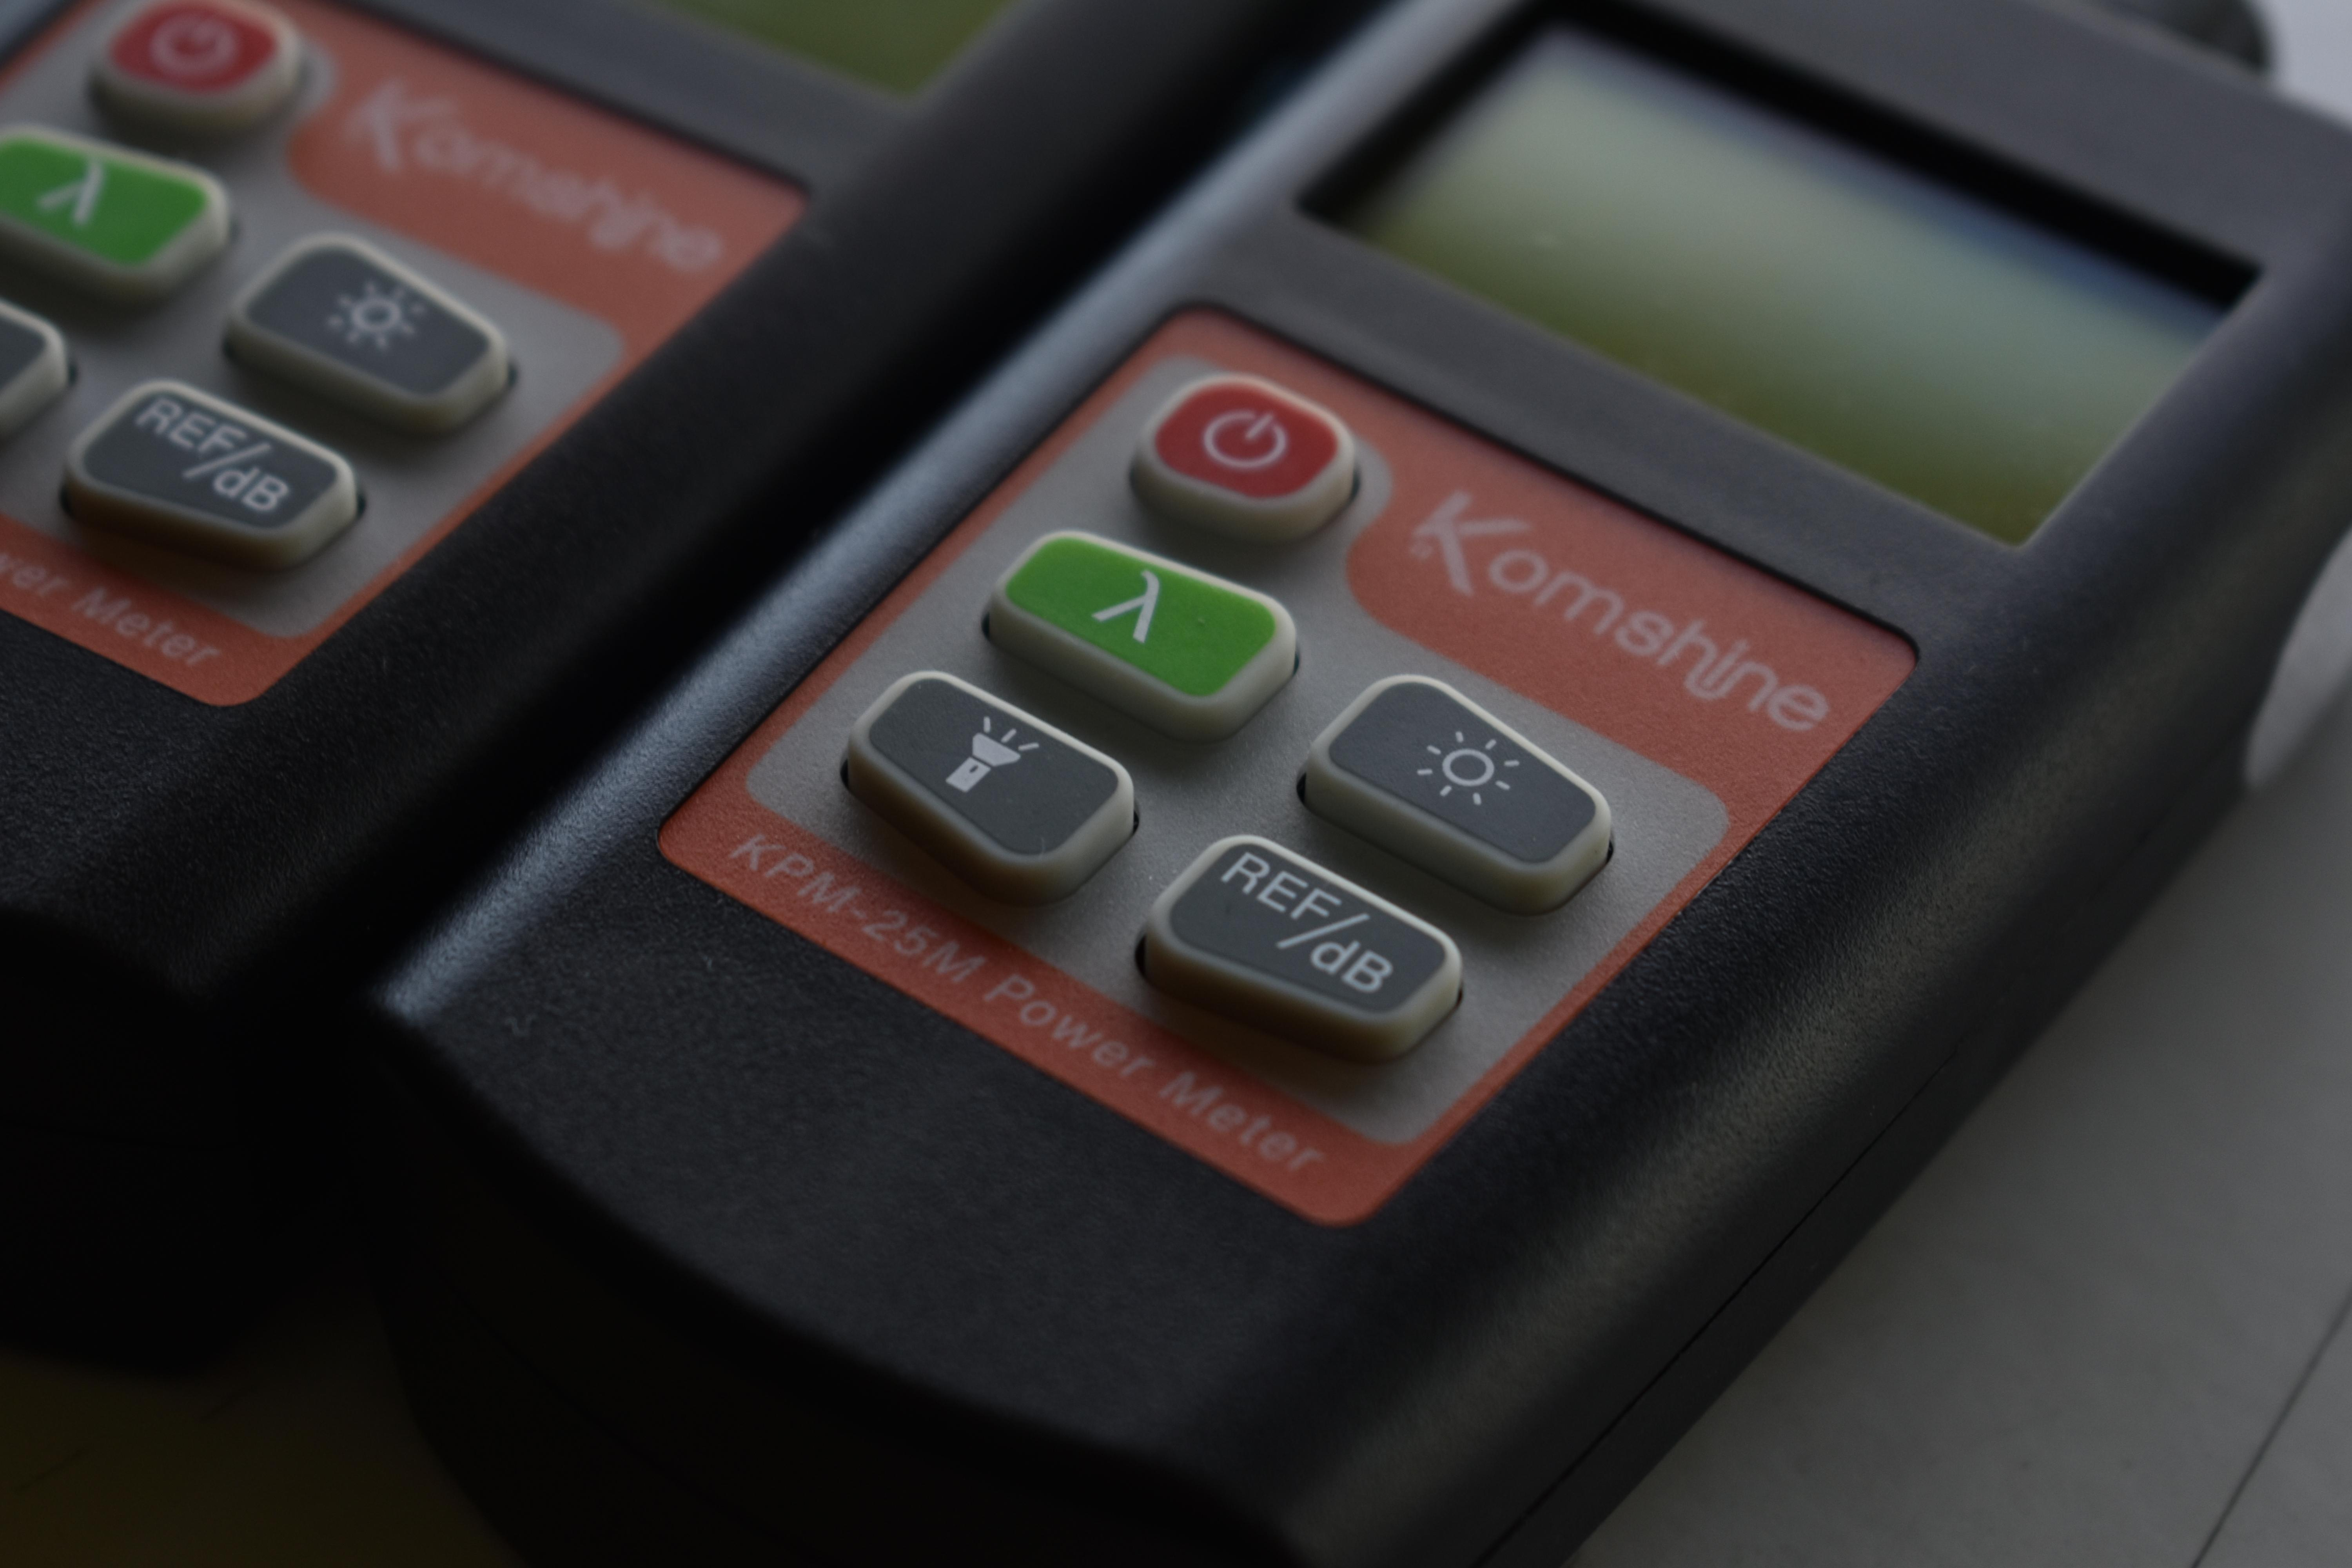powermeter: (357, 0, 2352, 1568), (0, 2, 1407, 1379)
